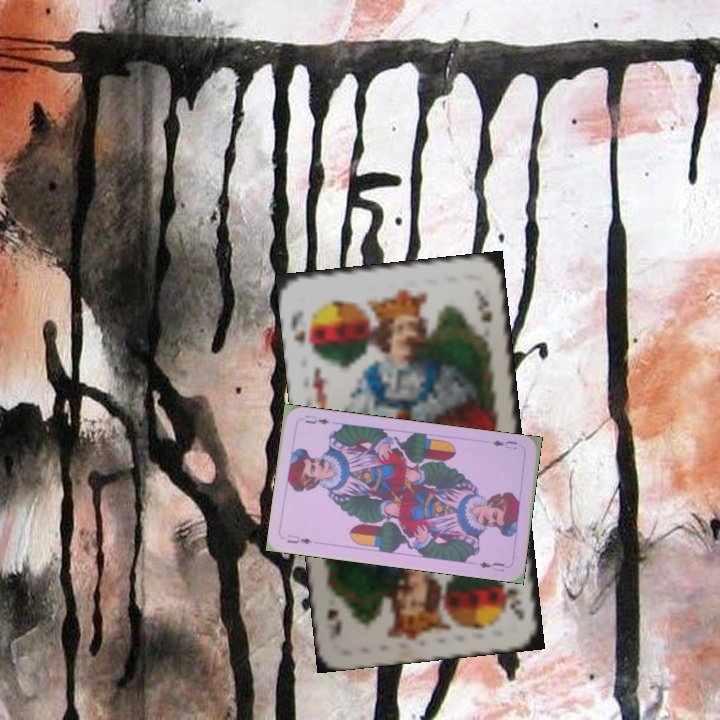EU: (283, 530, 314, 547), (488, 436, 520, 452)
SK: (503, 585, 528, 624), (287, 305, 309, 346)
